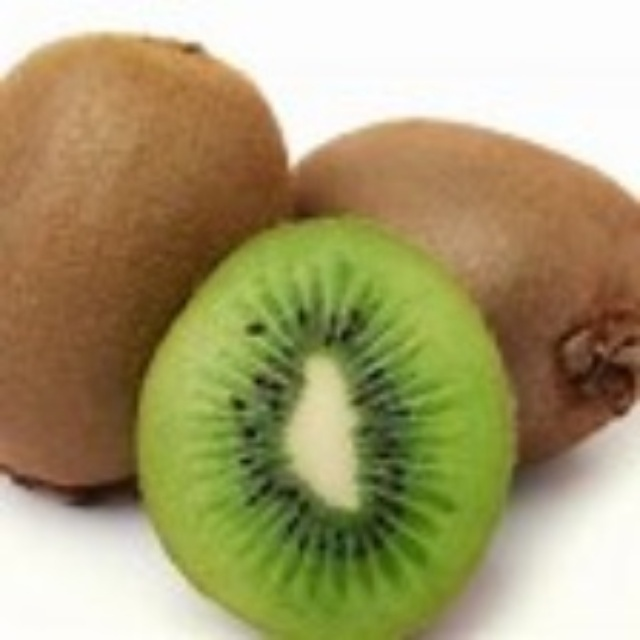kiwi: (144, 229, 512, 632), (7, 35, 285, 514), (305, 122, 639, 434)
